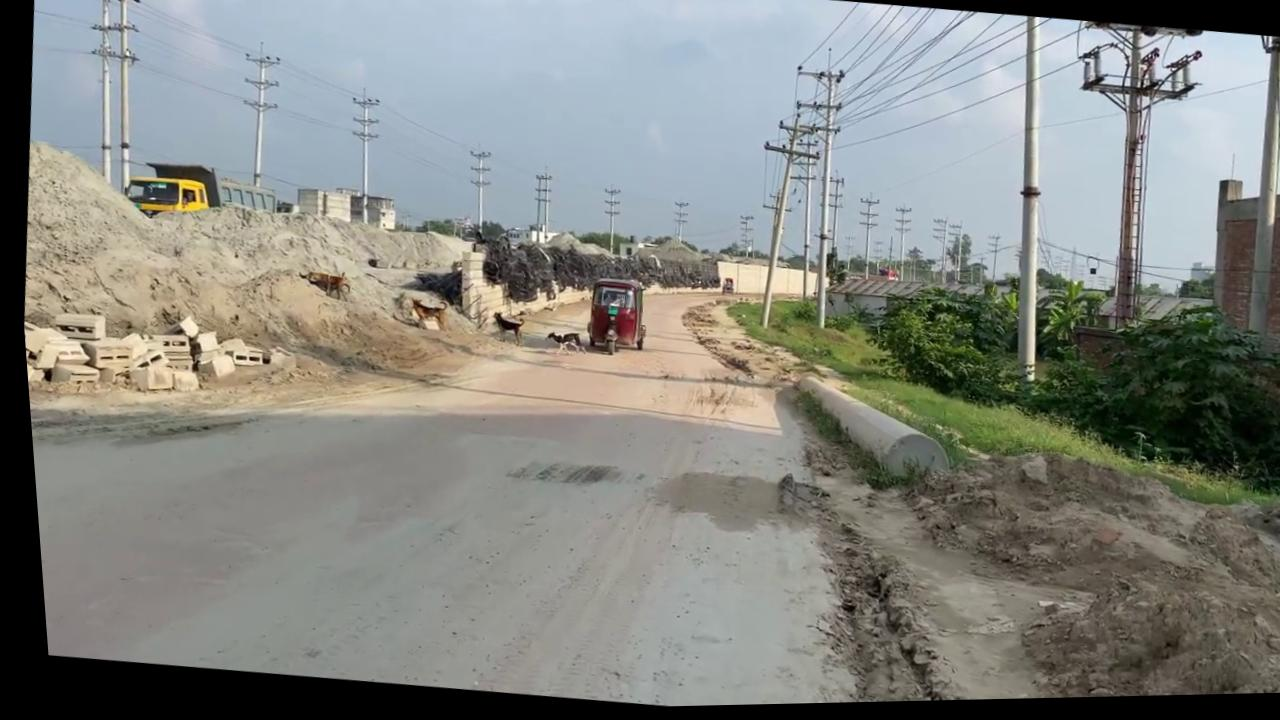Animal: (291, 268, 348, 302), (402, 297, 444, 332)
Car: (575, 277, 647, 356)
Dog: (485, 311, 522, 348), (538, 331, 582, 360)
Garbage: (17, 296, 277, 412)
Muddy road: (13, 205, 1280, 720)
Pole: (986, 20, 1068, 389), (1090, 31, 1160, 333), (1222, 40, 1280, 351), (1224, 47, 1280, 344), (93, 0, 153, 194), (68, 0, 128, 185)
Sidewalk: (20, 333, 896, 720)
Tree: (116, 155, 279, 232)
Upstairs: (778, 371, 952, 492)
